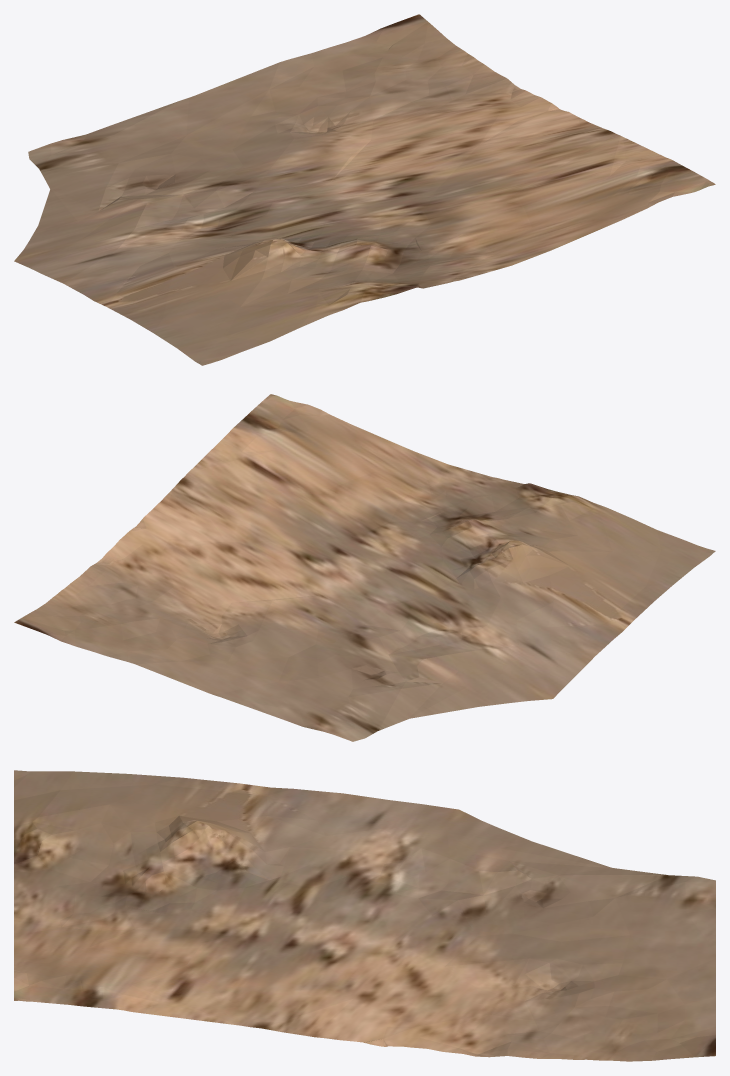
3 renders of one model, top to bottom at view 1: azimuth 30°, elevation 25°; view 2: azimuth 150°, elevation 25°; view 3: azimuth 270°, elevation 25°, orthographic. The views are drawn at different scales.
Size of the model in its own units: 2.09 by 0.3466 by 2.09.
Materials: 2 (2 with a texture image).
